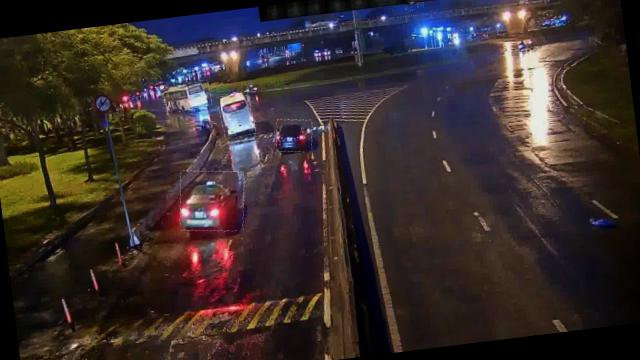Bus: (217, 90, 254, 139), (162, 80, 212, 112)
Car: (174, 165, 248, 236), (274, 116, 315, 154)
